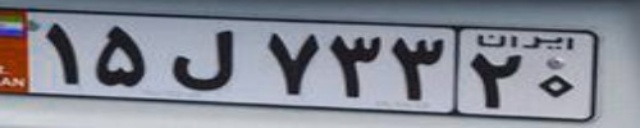0: (534, 74, 579, 98)
1: (42, 21, 80, 87)
2: (466, 51, 523, 108)
3: (384, 36, 447, 101), (328, 34, 378, 97)
5: (90, 24, 150, 86)
7: (262, 31, 320, 96)
lam: (166, 28, 241, 91)
